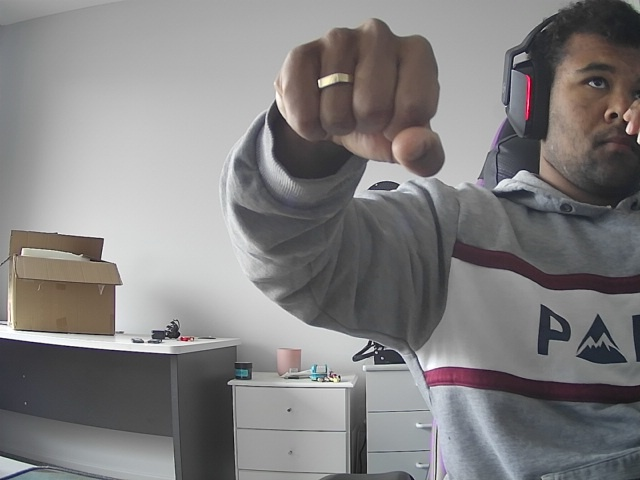Yes: (241, 3, 480, 207)
